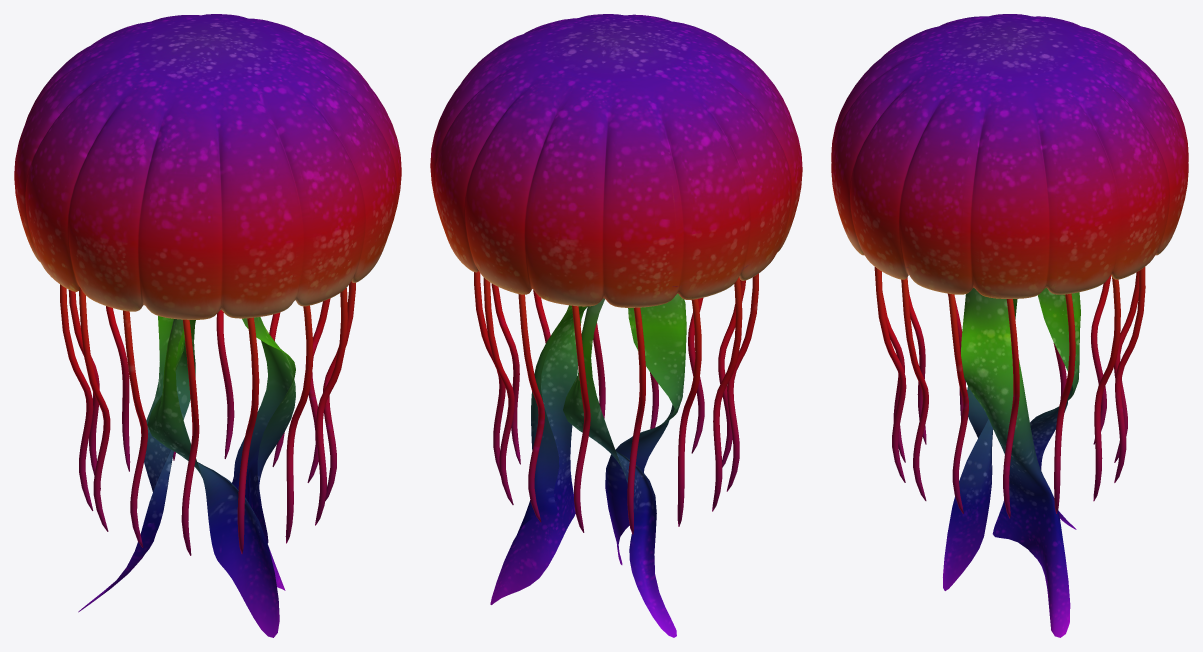
File: Jellyfish1.fbx
3 renders of one model, left to right at view 1: azimuth 30°, elevation 25°; view 2: azimuth 150°, elevation 25°; view 3: azimuth 270°, elevation 25°, orthographic. The views are drawn at different scales.
Parts seen in each view (by area): view 1: Cylinder, BezierCurve; view 2: Cylinder, BezierCurve; view 3: Cylinder, BezierCurve.
Boxes of the visible parts, box(x1,y1,x2,y2) form: Cylinder: box(14, 14, 401, 637); BezierCurve: box(60, 281, 355, 555); Cylinder: box(430, 14, 802, 637); BezierCurve: box(474, 271, 758, 534); Cylinder: box(831, 14, 1188, 637); BezierCurve: box(874, 267, 1145, 518).
Bounding box in the file's own units: 125 × 212 × 124.
